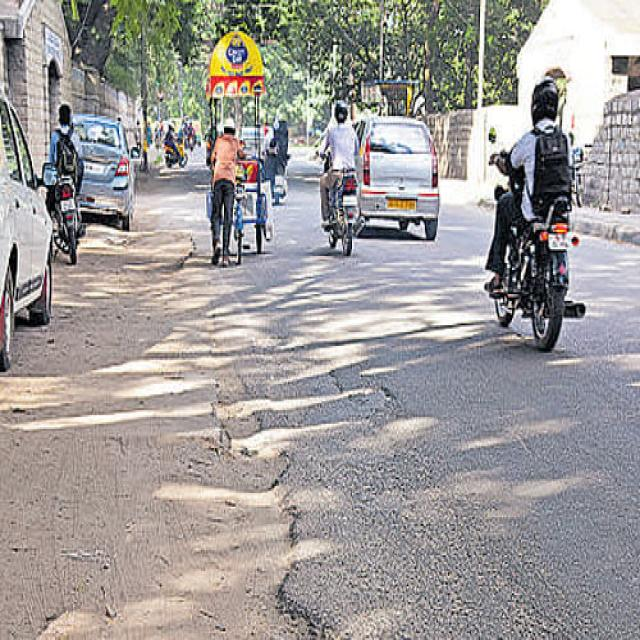car: (356, 117, 440, 239)
motorcycle: (485, 78, 585, 350)
